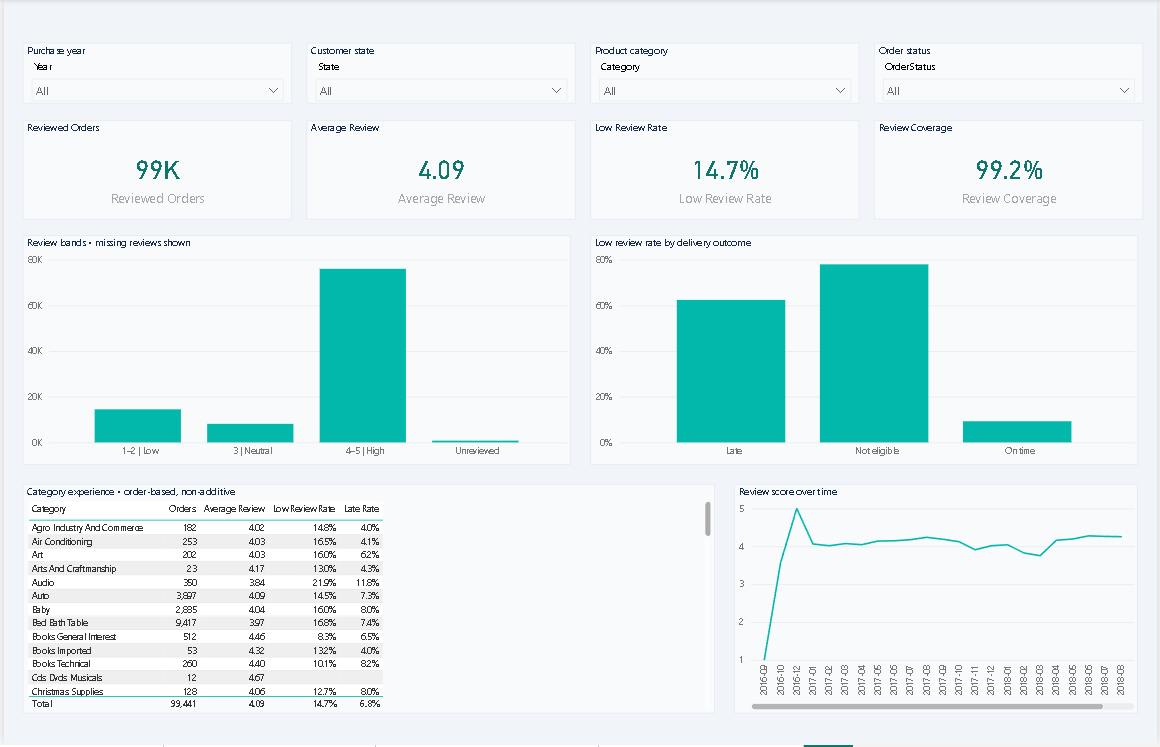

The page's visual inventory and layout, read from the dashboard file:
{"tool":"powerbi","page":{"name":"03 | Customer experience","canvas":[1440,900],"ordinal":2},"visuals":[{"type":"slicer","title":"Purchase year","fields":{"Values":["Calendar.Year"]},"box":[24,24,336,76],"z":24},{"type":"slicer","title":"Customer state","fields":{"Values":["Customers.State"]},"box":[378,24,336,76],"z":24},{"type":"slicer","title":"Product category","fields":{"Values":["Products.Category"]},"box":[732,24,336,76],"z":24},{"type":"slicer","title":"Order status","fields":{"Values":["Orders.OrderStatus"]},"box":[1086,24,336,76],"z":24},{"type":"card","title":"Reviewed Orders","fields":{"Values":["Orders.Reviewed Orders"]},"box":[24,120,336,124],"z":120},{"type":"card","title":"Average Review","fields":{"Values":["Orders.Average Review"]},"box":[378,120,336,124],"z":120},{"type":"card","title":"Low Review Rate","fields":{"Values":["Orders.Low Review Rate"]},"box":[732,120,336,124],"z":120},{"type":"card","title":"Review Coverage","fields":{"Values":["Orders.Review Coverage"]},"box":[1086,120,336,124],"z":120},{"type":"columnChart","title":"Review bands • missing reviews shown","fields":{"Category":["Orders.ReviewBand"],"Y":["Orders.Orders"]},"box":[24,264,684,286],"z":264},{"type":"columnChart","title":"Low review rate by delivery outcome","fields":{"Category":["Orders.DeliveryOutcome"],"Y":["Orders.Low Review Rate"]},"box":[732,264,684,286],"z":264},{"type":"tableEx","title":"Category experience • order-based, non-additive","fields":{"Values":["Products.Category","Orders.Orders","Orders.Average Review","Orders.Low Review Rate","Orders.Late Rate"]},"box":[24,574,864,286],"z":574},{"type":"lineChart","title":"Review score over time","fields":{"Category":["Calendar.YearMonth"],"Y":["Orders.Average Review"]},"box":[912,574,504,286],"z":574}]}

Visuals, with their boxes in screenshot pixels (x1, y1, x2, y2), scaled from the page's 1440x900 canvas onto the 1160x747 screenshot:
"Purchase year" slicer: [19,20,290,83]
"Customer state" slicer: [304,20,575,83]
"Product category" slicer: [590,20,860,83]
"Order status" slicer: [875,20,1146,83]
"Reviewed Orders" card: [19,100,290,203]
"Average Review" card: [304,100,575,203]
"Low Review Rate" card: [590,100,860,203]
"Review Coverage" card: [875,100,1146,203]
"Review bands • missing reviews shown" columnChart: [19,219,570,456]
"Low review rate by delivery outcome" columnChart: [590,219,1141,456]
"Category experience • order-based, non-additive" tableEx: [19,476,715,714]
"Review score over time" lineChart: [735,476,1141,714]
